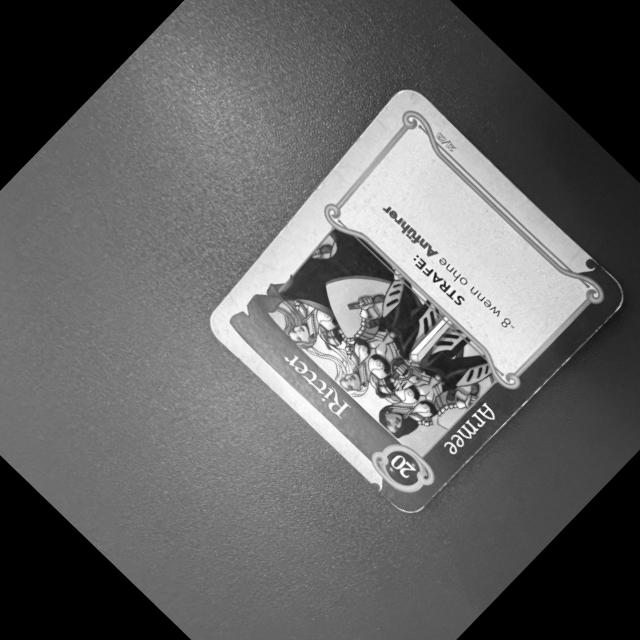Knights: (206, 82, 627, 522)
